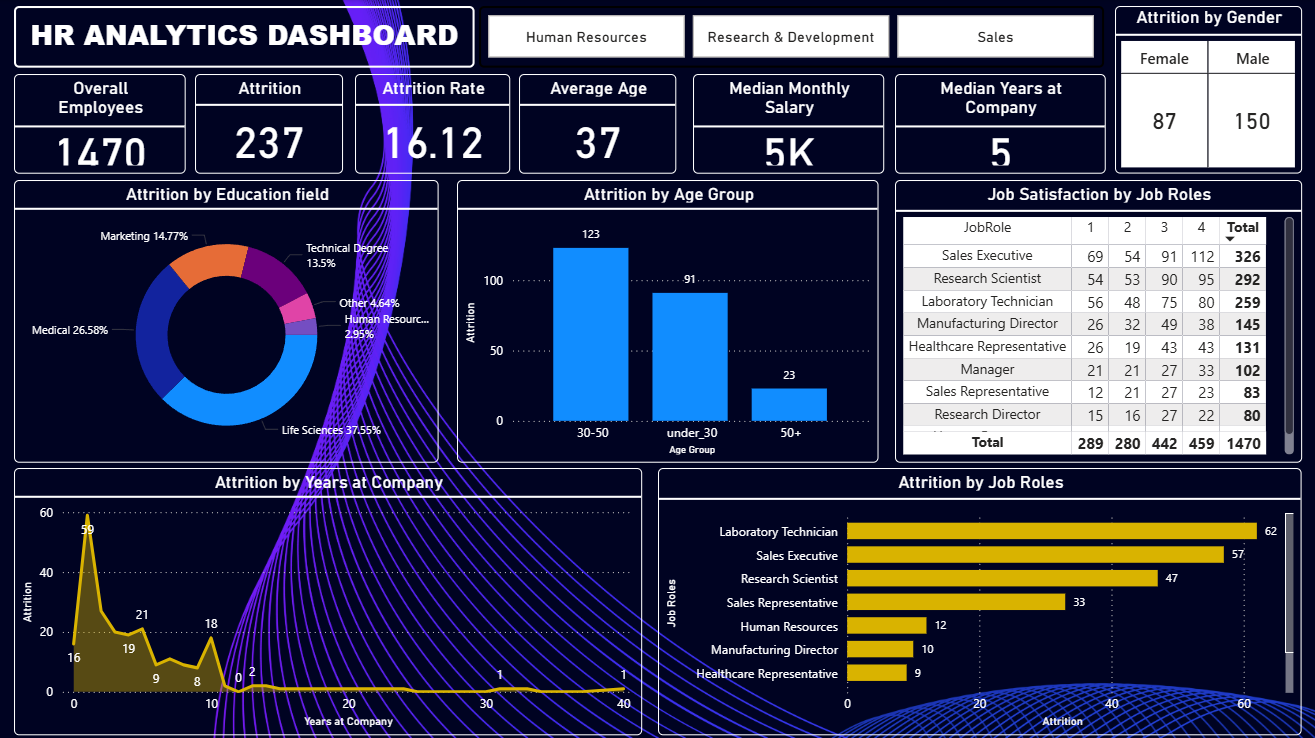

What the dashboard file says about the page in this screenshot:
{"tool":"powerbi","page":{"name":"Page 1","canvas":[1280,720],"ordinal":0},"visuals":[{"type":"card","title":"Median Years at Company","fields":{"Values":["Median(HR metrics project.YearsAtCompany)"]},"box":[870.5,72.5,204.8,96.6],"z":0},{"type":"barChart","title":"Attrition by Job Roles","fields":{"Y":["Sum(HR metrics project.attrition_encoded)"],"Category":["HR metrics project.JobRole"]},"box":[640,455.2,626.4,259.7],"z":1000},{"type":"card","title":"Median Monthly Salary","fields":{"Values":["Median(HR metrics project.MonthlyIncome)"]},"box":[674.1,72.5,185.9,96.6],"z":2000},{"type":"textbox","box":[13.6,5.8,448.4,60.3],"z":3000},{"type":"card","title":"Overall Employees","fields":{"Values":["HR metrics project.no_of_employees"]},"box":[13.7,72.5,167,96.6],"z":4000},{"type":"card","title":"Attrition","fields":{"Values":["Sum(HR metrics project.attrition_encoded)"]},"box":[190.1,72.5,143.9,96.6],"z":5000},{"type":"card","title":"Attrition Rate","fields":{"Values":["HR metrics project.turnover_rate"]},"box":[345.5,72.5,151.2,96.6],"z":6000},{"type":"card","title":"Average Age","fields":{"Values":["HR metrics project.average_age"]},"box":[505.1,72.5,153.3,96.6],"z":7000},{"type":"cardVisual","title":"Attrition by Gender","fields":{"Rows":["HR metrics project.Gender"],"Data":["Sum(HR metrics project.attrition_encoded)"]},"box":[1084.7,6.3,181.7,162.8],"z":8000},{"type":"donutChart","title":"Attrition by Education field","fields":{"Y":["Sum(HR metrics project.attrition_encoded)"],"Category":["HR metrics project.EducationField"]},"box":[13.6,175.1,413.4,275.3],"z":9000},{"type":"columnChart","title":"Attrition by Age Group","fields":{"Category":["HR metrics project.age_group"],"Y":["Sum(HR metrics project.attrition_encoded)"]},"box":[444.5,175.1,410.5,275.3],"z":10000},{"type":"pivotTable","title":"Job Satisfaction by Job Roles","fields":{"Rows":["HR metrics project.JobRole"],"Columns":["HR metrics project.JobSatisfaction"],"Values":["CountNonNull(HR metrics project.JobSatisfaction)"]},"box":[870.5,175.1,395.9,275.3],"z":11000},{"type":"lineChart","title":"Attrition by Years at Company","fields":{"Category":["HR metrics project.YearsAtCompany"],"Y":["Sum(HR metrics project.attrition_encoded)"]},"box":[13.6,455.2,610.8,259.7],"z":12000},{"type":"advancedSlicerVisual","fields":{"Values":["HR metrics project.Department"]},"box":[466.2,6.3,608,59.9],"z":13000}]}

Visuals, with their boxes in screenshot pixels (x1, y1, x2, y2), scaled from the page's 1280x720 canvas onto the 1315x738 screenshot:
"Median Years at Company" card: bbox=(894, 74, 1105, 173)
"Attrition by Job Roles" barChart: bbox=(658, 467, 1301, 733)
"Median Monthly Salary" card: bbox=(693, 74, 884, 173)
textbox: bbox=(14, 6, 475, 68)
"Overall Employees" card: bbox=(14, 74, 186, 173)
"Attrition" card: bbox=(195, 74, 343, 173)
"Attrition Rate" card: bbox=(355, 74, 510, 173)
"Average Age" card: bbox=(519, 74, 676, 173)
"Attrition by Gender" cardVisual: bbox=(1114, 6, 1301, 173)
"Attrition by Education field" donutChart: bbox=(14, 179, 439, 462)
"Attrition by Age Group" columnChart: bbox=(457, 179, 878, 462)
"Job Satisfaction by Job Roles" pivotTable: bbox=(894, 179, 1301, 462)
"Attrition by Years at Company" lineChart: bbox=(14, 467, 641, 733)
advancedSlicerVisual - HR metrics project.Department: bbox=(479, 6, 1104, 68)
